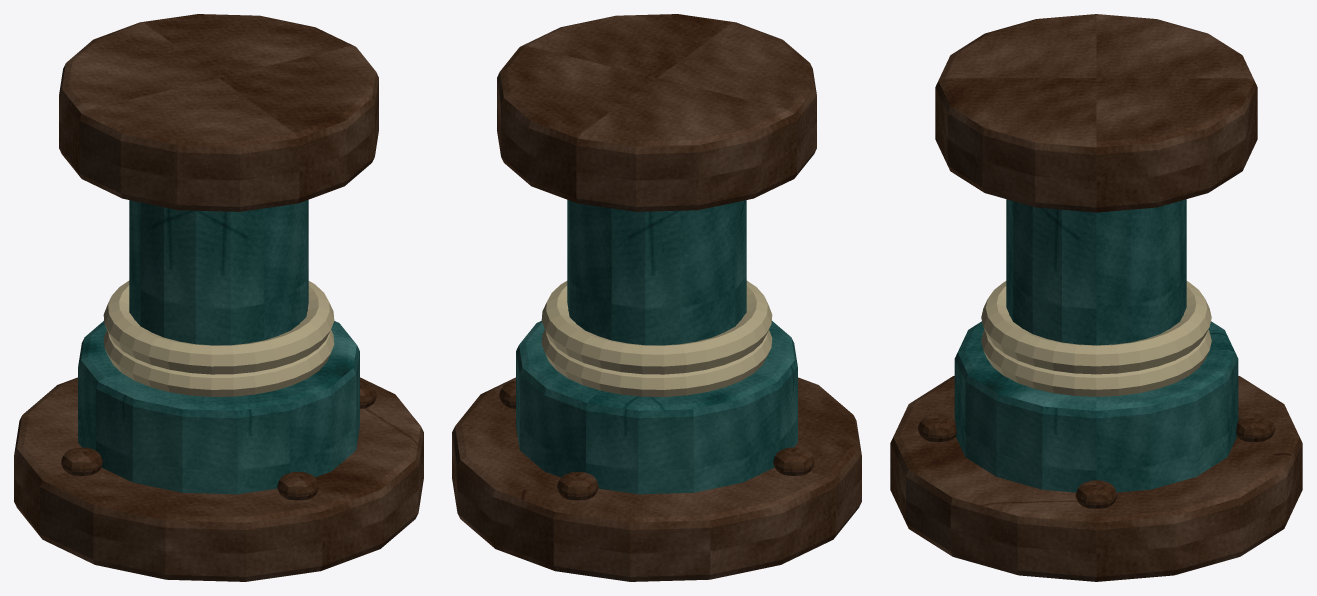
The picture shows the model from 3 angles, left to right: view 1: azimuth 30°, elevation 25°; view 2: azimuth 150°, elevation 25°; view 3: azimuth 270°, elevation 25°; orthographic projection.
Visible parts, largest first — view 1: Coast_bollard; view 2: Coast_bollard; view 3: Coast_bollard.
Boxes of the visible parts, x1=… form: Coast_bollard: x1=14, y1=14, x2=423, y2=581; Coast_bollard: x1=452, y1=14, x2=861, y2=581; Coast_bollard: x1=890, y1=14, x2=1302, y2=581.
Bounding box in the file's own units: 0.64 × 0.72 × 0.64.
3 materials, 2 textured.
